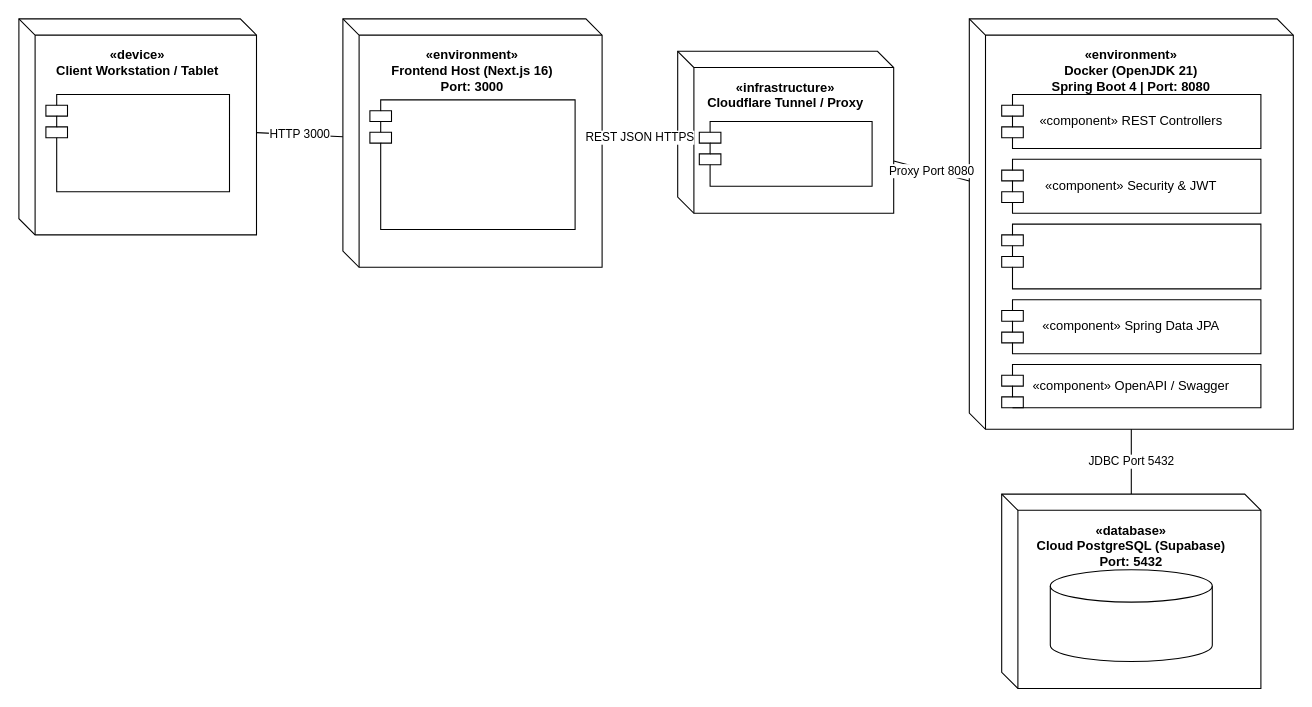
Some shapes in this 1312 by 707 pixel diagram are drawn without their labels. Here are the shapes that lost their labels. From the top down, the centre of each, then its label:
point 137,142: «artifact» Web Browser (SPA Client)
point 785,153: SSL/TLS Termination
point 472,164: «component» Next.js • React 19 Components • Axios Client • Tailwind CSS
point 1131,256: «component» Service + Patterns
point 1130,615: mobistock DB 11 Tables
